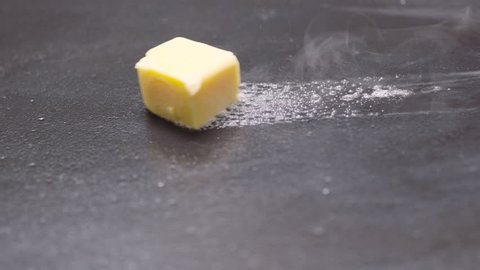Butter: (136, 39, 240, 127)
